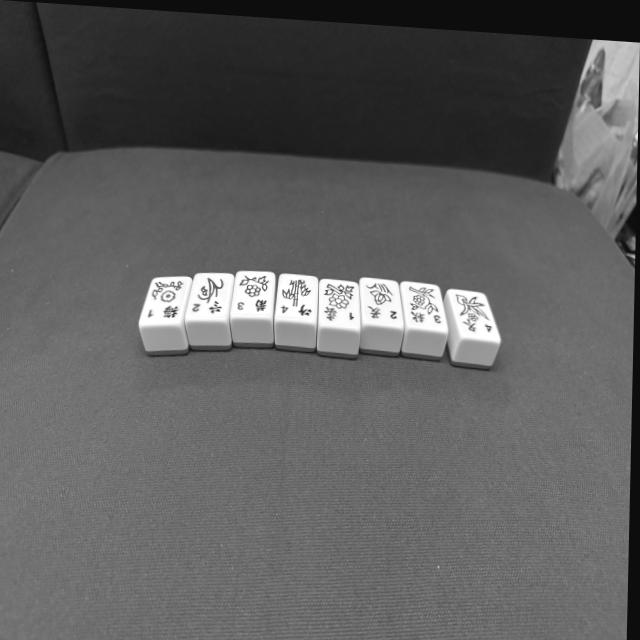f1: (141, 276, 191, 326)
f2: (189, 274, 232, 321)
f3: (230, 270, 275, 318)
f4: (276, 275, 319, 322)
ff1: (318, 279, 362, 329)
ff2: (360, 278, 405, 327)
ff3: (401, 282, 450, 331)
ff4: (448, 291, 502, 341)
